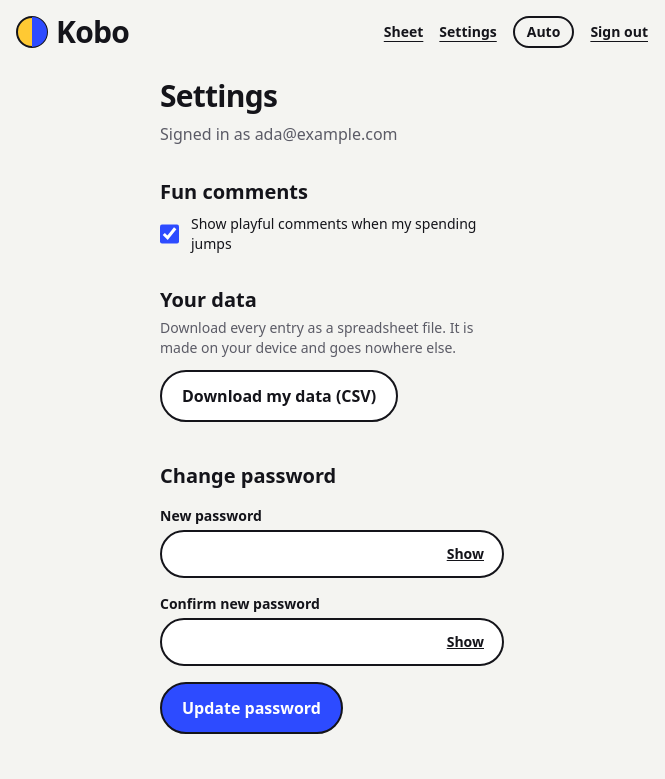
Test: SettingsPage › downloads all entries as a CSV file
Check: the heading "Settings" is shown, box [160,75,277,116]
Step 1. Click the button "Download my data (CSV)" → (279, 396), box [160,370,398,422]
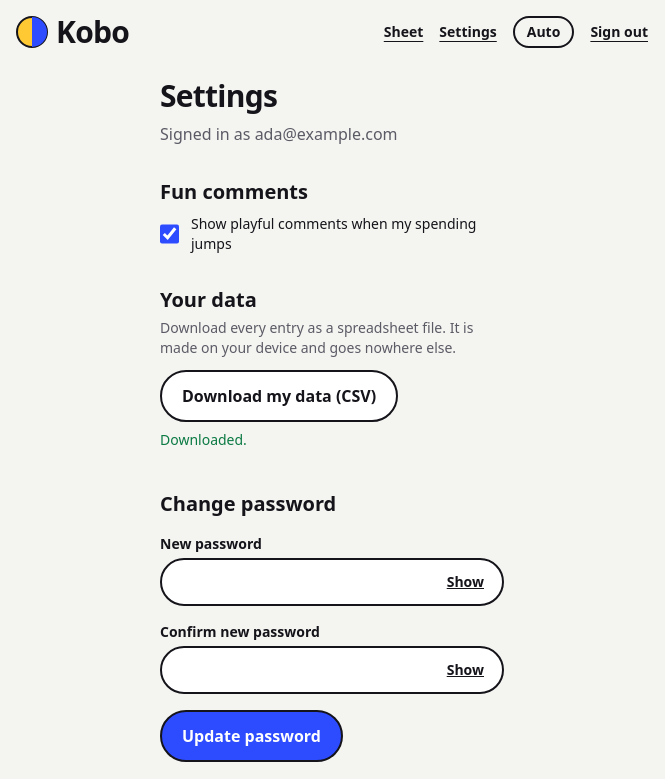
Check: the message reads "Downloaded.", box [160,430,247,449]
